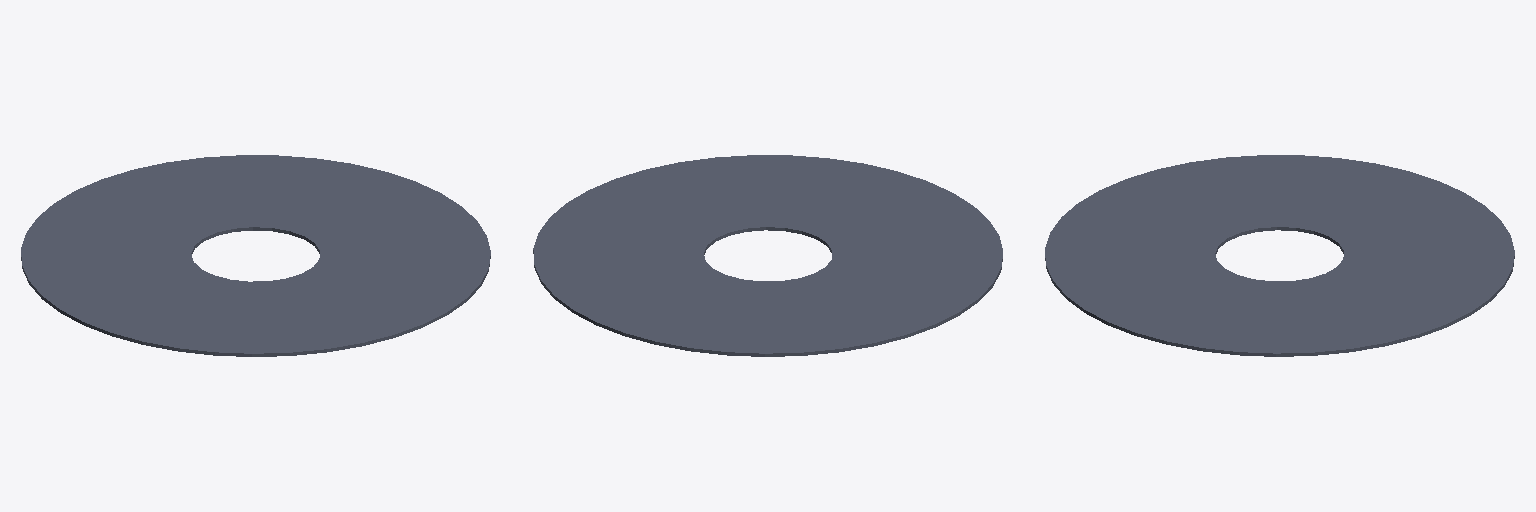
File: solo_upper_leg_right_side_11.obj
The picture shows the model from 3 angles: view 1: azimuth 30°, elevation 25°; view 2: azimuth 150°, elevation 25°; view 3: azimuth 270°, elevation 25°; orthographic projection.
Bounding box in the file's own units: 0.0255 × 0.0002 × 0.0255.